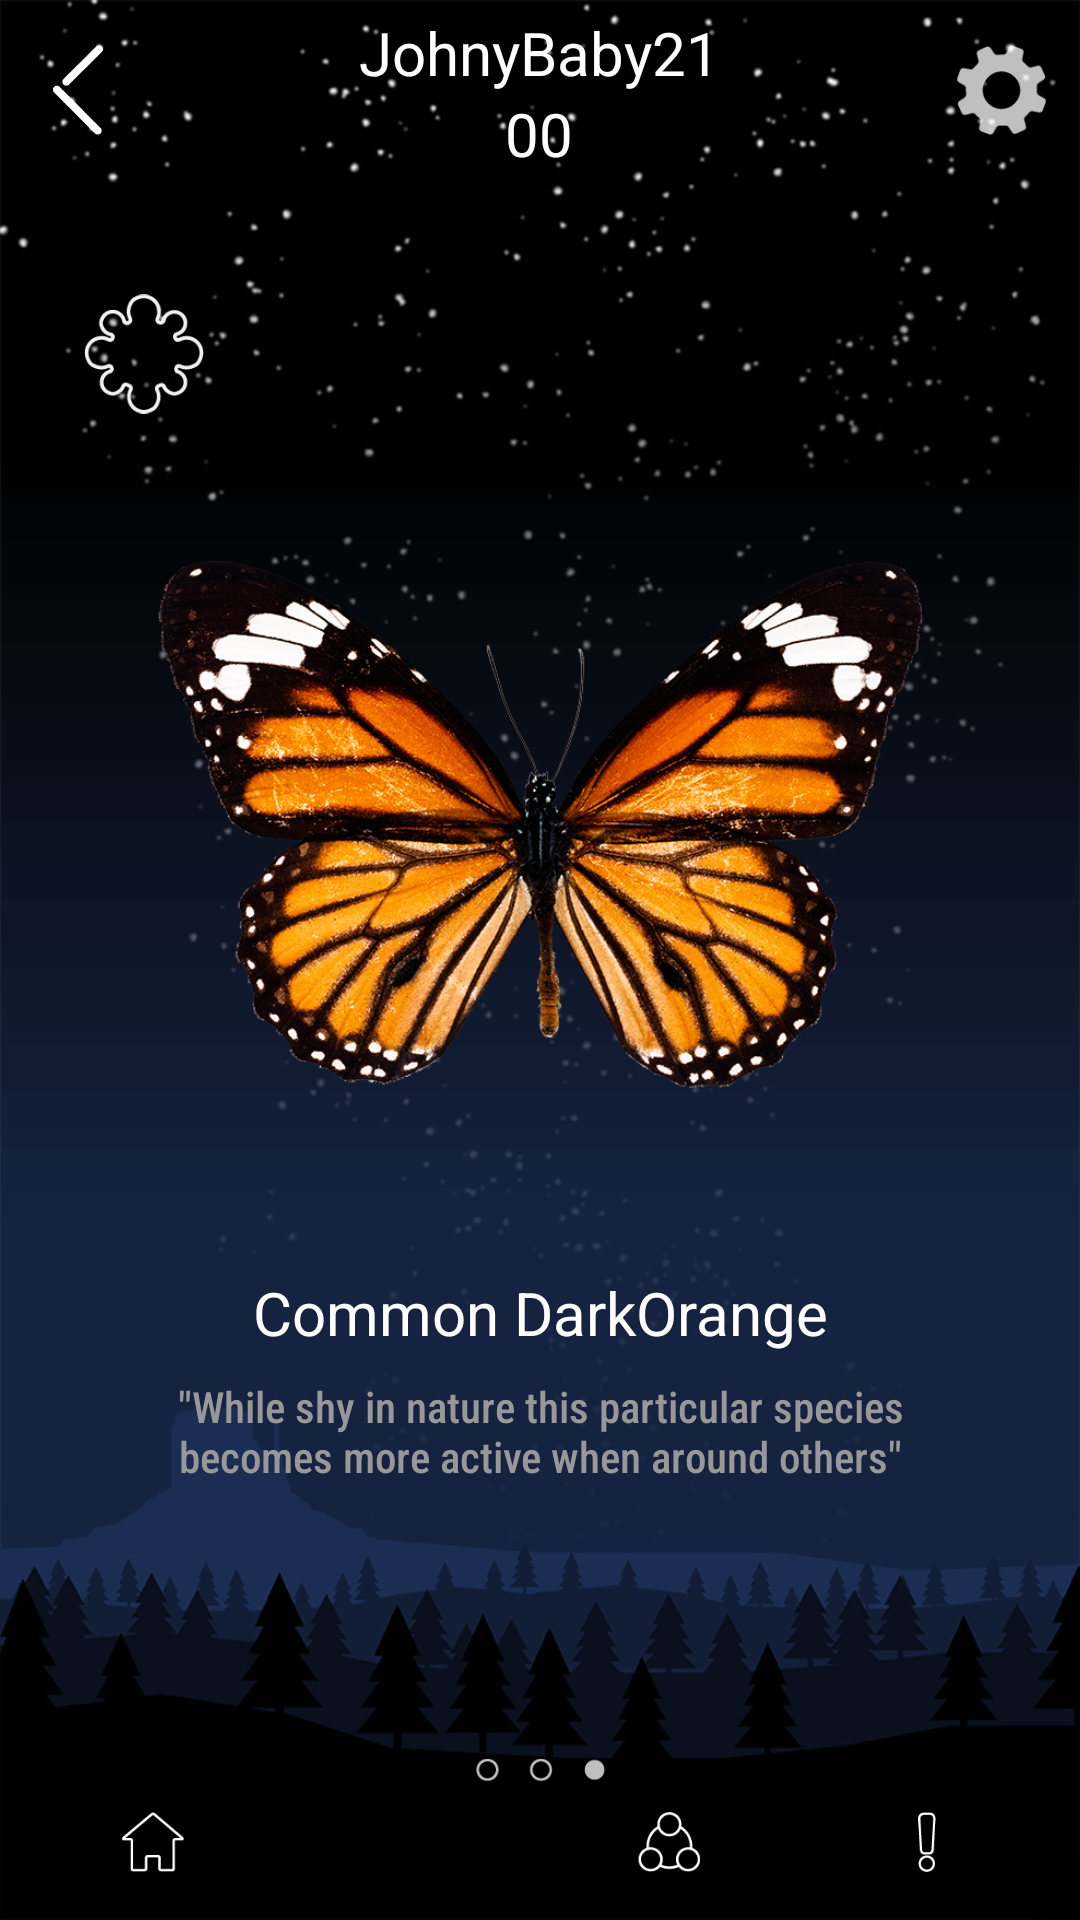

Screen size 1080*1920. Icon name, then its center in pixels as [x,y]:
back: [88,90]
community unfilled: [669,1842]
dots right: [540,1770]
home unfilled: [153,1842]
pollen: [144,354]
quest unfilled: [927,1842]
settings: [1000,90]
